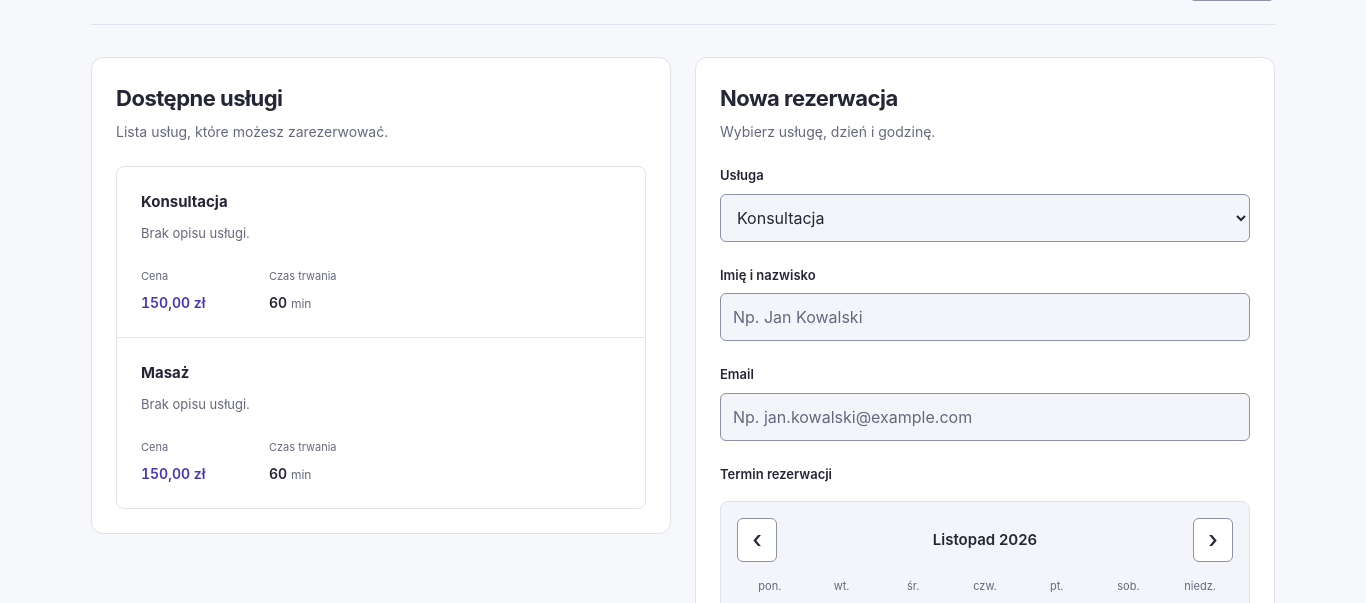
it: availability failures and stale responses › does not let an old month response overwrite the currently displayed month
This screenshot has width=1366, height=603.
Click the button "›": (1213, 540) [1193,518,1233,562]
(page scrolled)
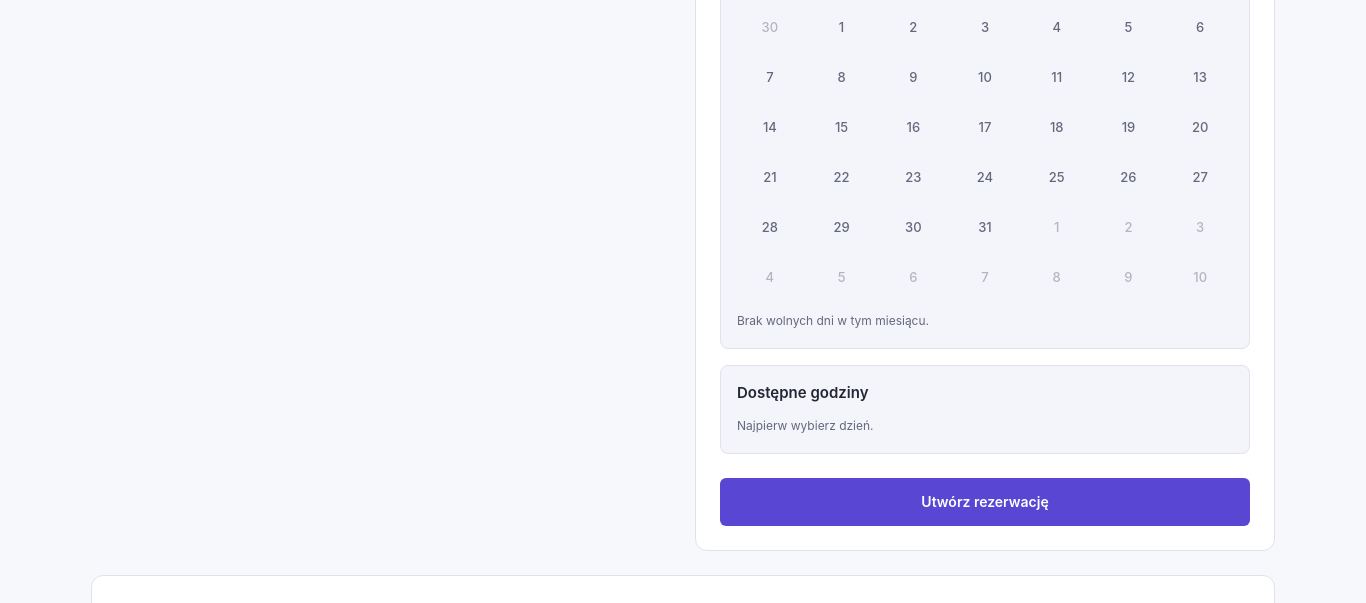
Check: the text "Brak wolnych dni w tym miesiącu." is shown, box [737,313,929,328]
